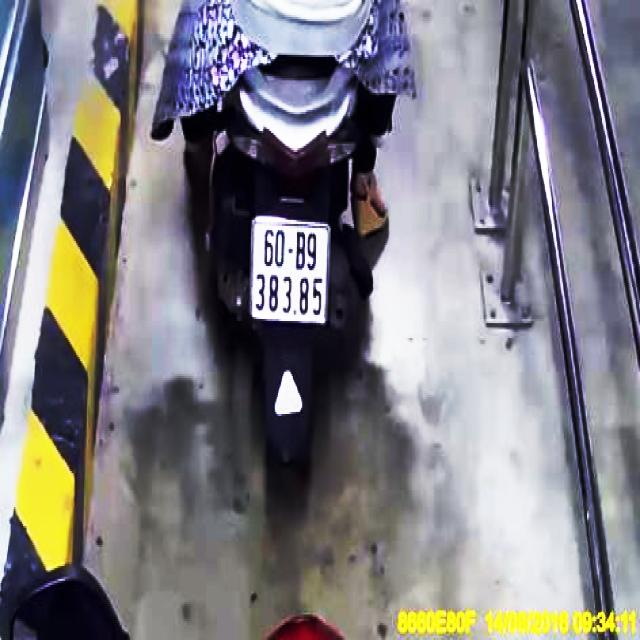license_plate: (250, 216, 328, 327)
